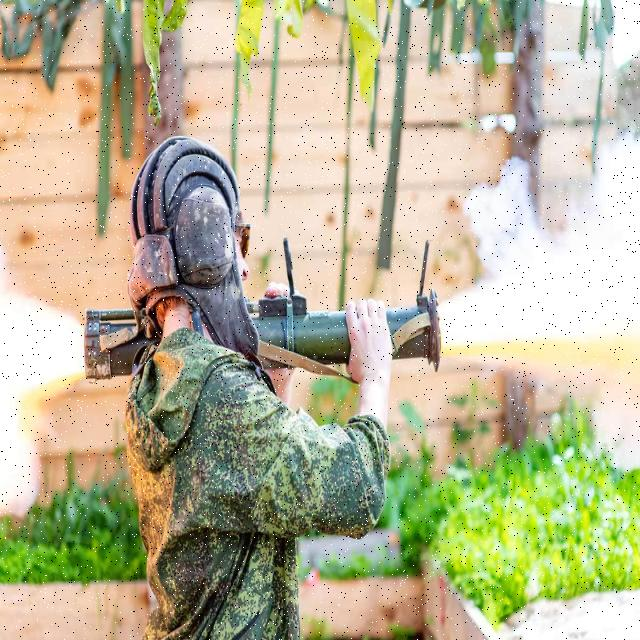bazooka: (79, 231, 451, 404)
